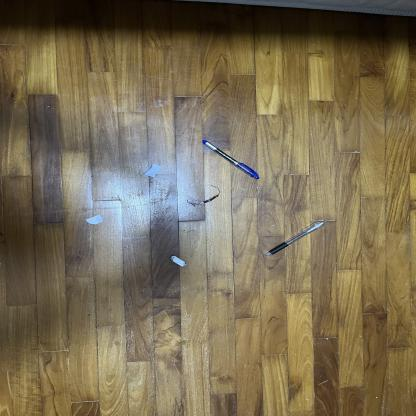dirty: (187, 184, 220, 206), (143, 164, 163, 178), (86, 214, 104, 224)
